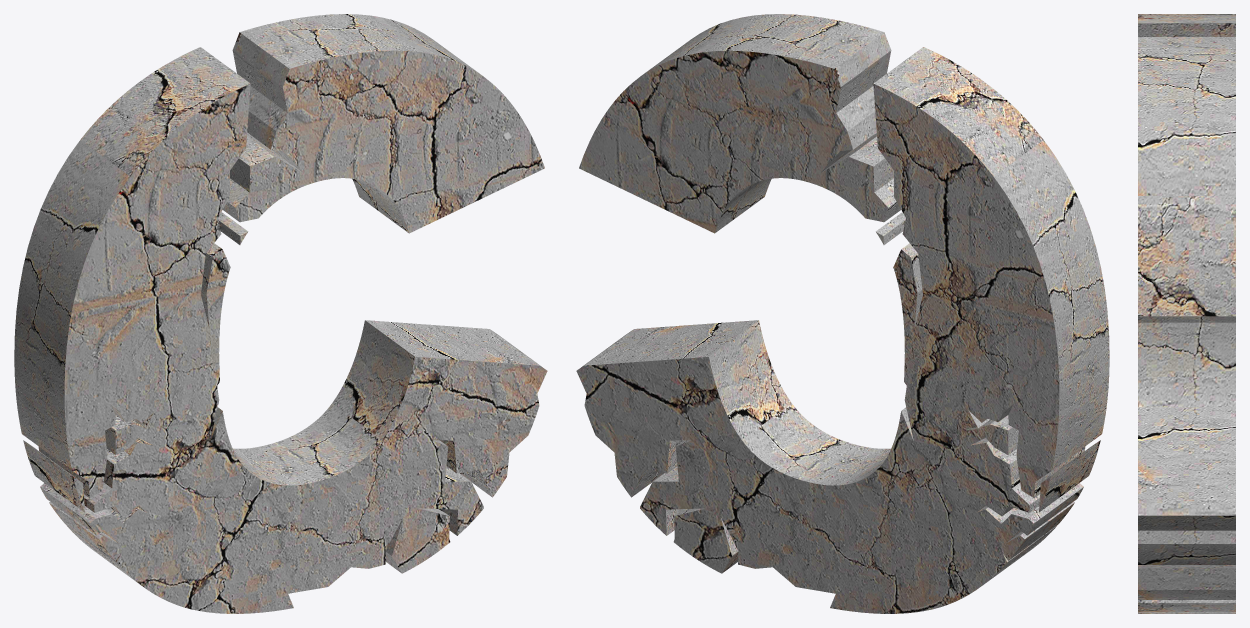
The picture shows the model from 3 angles, left to right: view 1: azimuth 30°, elevation 25°; view 2: azimuth 150°, elevation 25°; view 3: azimuth 270°, elevation 25°; orthographic projection. The views are drawn at different scales.
Visible parts, largest first — view 1: C; view 2: C; view 3: C.
Part boxes in pixels (x1=…): C: x1=14, y1=14, x2=547, y2=613; C: x1=576, y1=14, x2=1109, y2=613; C: x1=1138, y1=14, x2=1235, y2=613.
Size of the model in its own units: 83.39 by 89.27 by 15.
1 material, 1 textured.
